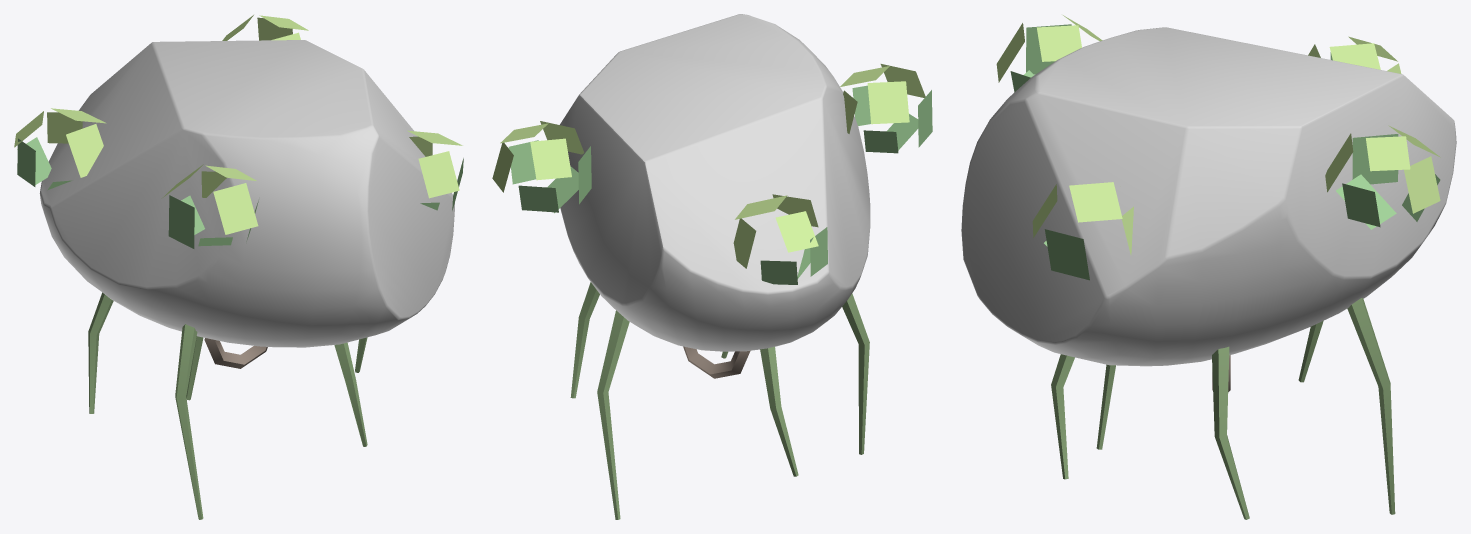
The model's file is mover_floating_rock.glb.
3 views of the same model, side by side, from view 1: azimuth 30°, elevation 25°; view 2: azimuth 150°, elevation 25°; view 3: azimuth 270°, elevation 25° (orthographic). The views are drawn at different scales.
Parts seen in each view (by area): view 1: mover_floating_rock; view 2: mover_floating_rock; view 3: mover_floating_rock.
Boxes of the visible parts, x1=… form: mover_floating_rock: x1=14, y1=15, x2=463, y2=519; mover_floating_rock: x1=492, y1=14, x2=932, y2=519; mover_floating_rock: x1=961, y1=15, x2=1456, y2=519.
Bounding box in the file's own units: 2.91 × 3.19 × 3.25.
